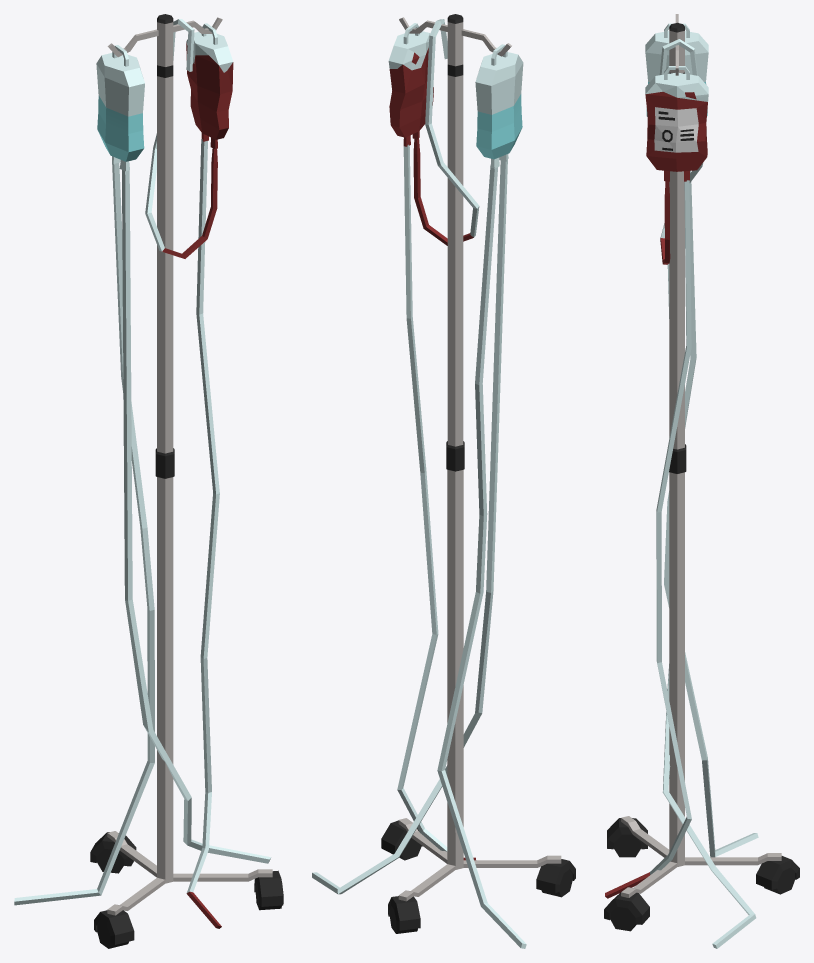
Rendered from apocalypse_iv-pole-water-full.fbx.
The picture shows the model from 3 angles, left to right: view 1: azimuth 30°, elevation 25°; view 2: azimuth 150°, elevation 25°; view 3: azimuth 270°, elevation 25°; orthographic projection. The views are drawn at different scales.
Visible parts, largest first — view 1: apocalypse_iv_pole_water_full; view 2: apocalypse_iv_pole_water_full; view 3: apocalypse_iv_pole_water_full.
Part boxes in pixels (x1,y1,x2,y2): apocalypse_iv_pole_water_full: (14,14,283,948); apocalypse_iv_pole_water_full: (312,14,575,948); apocalypse_iv_pole_water_full: (604,14,799,948).
Bounding box in the file's own units: 55.83 × 200 × 41.05.
